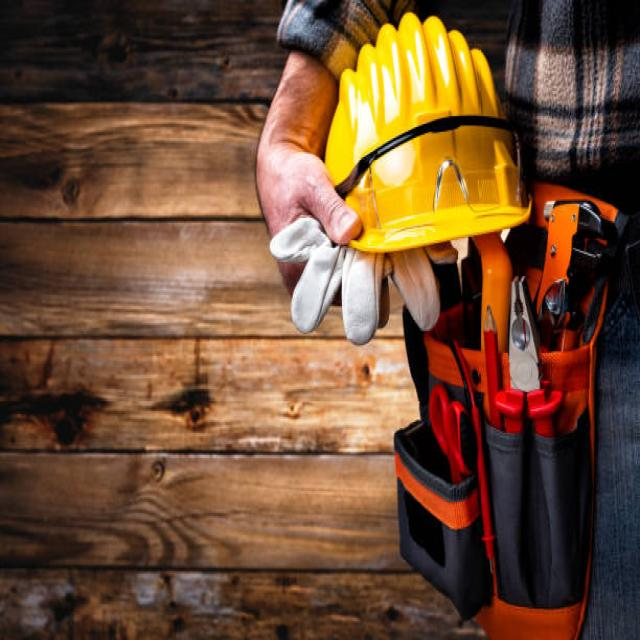gloves: (269, 212, 441, 348)
